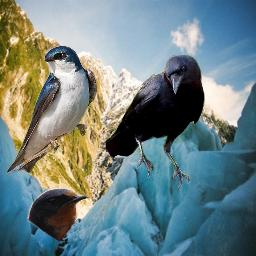Crow: (106, 55, 205, 190)
Swallow: (6, 44, 97, 175), (27, 187, 90, 242)
